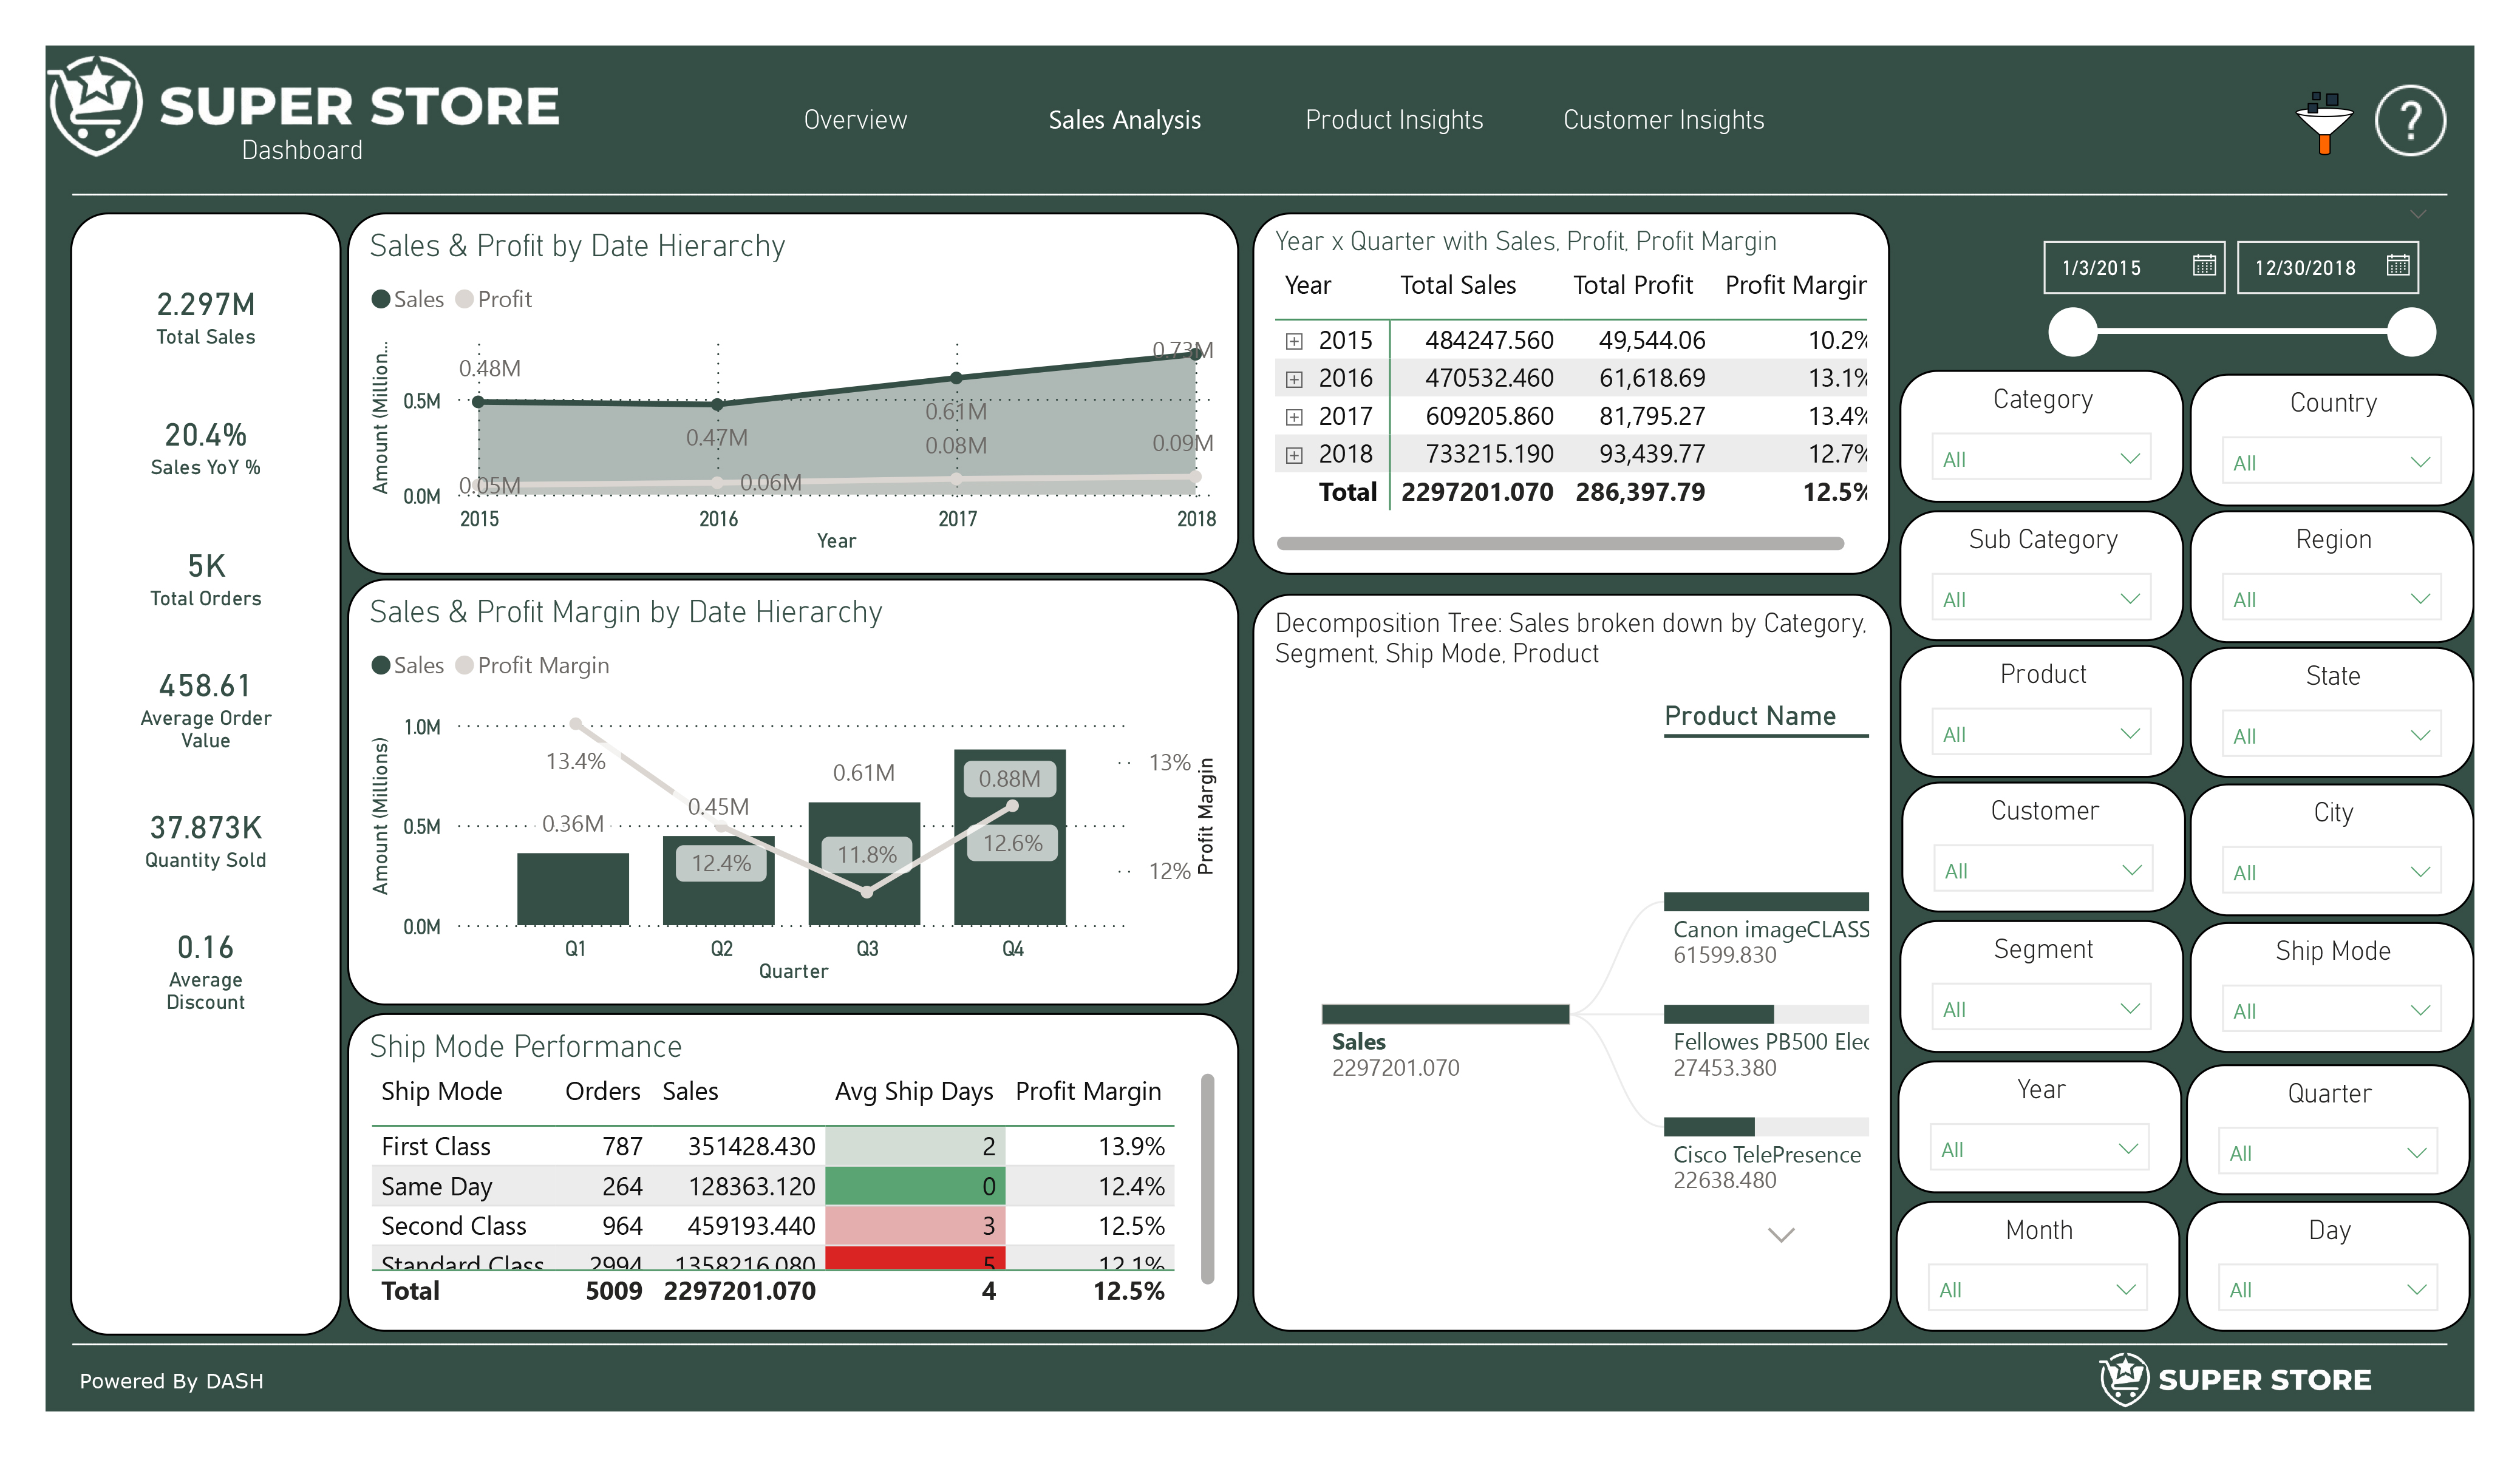

What the dashboard file says about the page in this screenshot:
{"tool":"powerbi","page":{"name":"Sales Analysis","canvas":[1280,720],"ordinal":1},"visuals":[{"type":"pageNavigator","box":[361.1,0,559.2,78.5],"z":0},{"type":"textbox","box":[2.1,41.4,266.8,27.9],"z":1000},{"type":"image","box":[1226,9.1,41.2,61.4],"z":2000},{"type":"image","box":[0,0,270.9,64.1],"z":3000},{"type":"textbox","box":[0,670,1280,27.8],"z":4000},{"type":"image","box":[1040,688.8,227.5,28.8],"z":5000},{"type":"slicer","fields":{"Values":["Order.order_date"]},"box":[1040.1,78.6,227.5,97.2],"z":6000},{"type":"textbox","box":[0,64.4,1280,27.8],"z":7000},{"type":"textbox","box":[13.1,688.8,133.8,31.2],"z":8000},{"type":"image","box":[1183.8,22.1,34.2,37.2],"z":9000},{"type":"cardVisual","fields":{"Data":["Calculations Measure.Total Sales","Calculations Measure.Sales YoY %","Calculations Measure.Total Orders","Calculations Measure.Average Order Value","Calculations Measure.Total Quantity","Calculations Measure.Average Discount"]},"box":[13.1,87.5,142.8,592.4],"z":10000},{"type":"slicer","title":"Country","fields":{"Values":["Country.country"]},"box":[1129.8,172.5,150,70],"z":11000},{"type":"slicer","title":"State","fields":{"Values":["State.state"]},"box":[1130.1,316.7,149.9,69.4],"z":12000},{"type":"slicer","title":"Region","fields":{"Values":["Region.region"]},"box":[1130.1,245.3,149.9,69.4],"z":13000},{"type":"slicer","title":"Sub Category","fields":{"Values":["Sub Category.sub_category"]},"box":[977.5,244.9,149.9,69.4],"z":14000},{"type":"slicer","title":"Product","fields":{"Values":["Product.product_name"]},"box":[977.5,316.3,149.9,69.4],"z":15000},{"type":"slicer","title":"Category","fields":{"Values":["Category.category"]},"box":[977.5,171.5,149.9,69.4],"z":16000},{"type":"slicer","title":"City","fields":{"Values":["City.city"]},"box":[1130.1,389.1,149.9,69.4],"z":17000},{"type":"slicer","title":"Ship Mode","fields":{"Values":["Ship Mode.ship_mode"]},"box":[1130.1,461.5,149.9,69.4],"z":18000},{"type":"slicer","title":"Customer","fields":{"Values":["Customer.customer_name"]},"box":[978.5,387.7,149.9,69.4],"z":19000},{"type":"slicer","title":"Segment","fields":{"Values":["Segment.segment"]},"box":[977.5,461.2,149.9,69.4],"z":20000},{"type":"slicer","title":"Quarter","fields":{"Values":["Calendar.Quarter"]},"box":[1128,536.6,149.9,69.4],"z":21000},{"type":"slicer","title":"Day","fields":{"Values":["Calendar.Day Name"]},"box":[1128,609,149.9,69.4],"z":22000},{"type":"slicer","title":"Year","fields":{"Values":["Calendar.Year"]},"box":[976.4,535.2,149.9,69.4],"z":23000},{"type":"slicer","title":"Month","fields":{"Values":["Calendar.Month Name"]},"box":[975.4,608.6,149.9,69.4],"z":24000},{"type":"lineChart","title":"Sales & Profit by Date Hierarchy ","fields":{"Y":["Sum(Order Details.sales)","Sum(Order Details.profit)"],"Category":["Calendar.Date Hierarchy.Year","Calendar.Date Hierarchy.Quarter","Calendar.Date Hierarchy.Month Name","Calendar.Date Hierarchy.Day Name"]},"box":[159.2,87.9,469.4,191.3],"z":25000},{"type":"lineClusteredColumnComboChart","title":"Sales & Profit Margin by Date Hierarchy ","fields":{"Category":["Calendar.Date Hierarchy.Year","Calendar.Date Hierarchy.Quarter","Calendar.Date Hierarchy.Month Name","Calendar.Date Hierarchy.Day Name"],"Y":["Sum(Order Details.sales)"],"Y2":["Calculations Measure.Profit Margin"]},"box":[158.8,281,470,225],"z":26000},{"type":"pivotTable","title":"Year x Quarter with Sales, Profit, Profit Margin","fields":{"Rows":["Calendar.Date Hierarchy.Year","Calendar.Date Hierarchy.Quarter"],"Values":["Calculations Measure.Total Sales","Calculations Measure.Total Profit","Calculations Measure.Profit Margin"]},"box":[635.9,87.9,336,191.3],"z":27000},{"type":"tableEx","title":"Ship Mode Performance","fields":{"Values":["Ship Mode.ship_mode","Calculations Measure.Total Orders","Calculations Measure.Total Sales","Calculations Measure.Average Ship Days","Calculations Measure.Profit Margin"]},"box":[158.8,510,470,167.5],"z":28000},{"type":"decompositionTreeVisual","title":"Decomposition Tree: Sales broken down by Category, Segment, Ship Mode, Product","fields":{"Analyze":["Calculations Measure.Total Sales"],"ExplainBy":["Product.product_name","Segment.segment","Ship Mode.ship_mode","Category.category"]},"box":[636.2,288.8,336.2,388.8],"z":29000}]}

Visuals, with their boxes on the page's 1280x720 design canvas (x1, y1, x2, y2). These are canvas units, not pixel positions in the 2520x1457 screenshot, which may show the page scaled, cropped or inside an application window:
pageNavigator: <bbox>361, 0, 920, 78</bbox>
textbox: <bbox>2, 41, 269, 69</bbox>
image: <bbox>1226, 9, 1267, 70</bbox>
image: <bbox>0, 0, 271, 64</bbox>
textbox: <bbox>0, 670, 1280, 698</bbox>
image: <bbox>1040, 689, 1268, 718</bbox>
slicer - Order.order_date: <bbox>1040, 79, 1268, 176</bbox>
textbox: <bbox>0, 64, 1280, 92</bbox>
textbox: <bbox>13, 689, 147, 720</bbox>
image: <bbox>1184, 22, 1218, 59</bbox>
cardVisual - Calculations Measure.Total Sales x Calculations Measure.Sales YoY %: <bbox>13, 88, 156, 680</bbox>
"Country" slicer: <bbox>1130, 172, 1280, 242</bbox>
"State" slicer: <bbox>1130, 317, 1280, 386</bbox>
"Region" slicer: <bbox>1130, 245, 1280, 315</bbox>
"Sub Category" slicer: <bbox>978, 245, 1127, 314</bbox>
"Product" slicer: <bbox>978, 316, 1127, 386</bbox>
"Category" slicer: <bbox>978, 172, 1127, 241</bbox>
"City" slicer: <bbox>1130, 389, 1280, 458</bbox>
"Ship Mode" slicer: <bbox>1130, 462, 1280, 531</bbox>
"Customer" slicer: <bbox>978, 388, 1128, 457</bbox>
"Segment" slicer: <bbox>978, 461, 1127, 531</bbox>
"Quarter" slicer: <bbox>1128, 537, 1278, 606</bbox>
"Day" slicer: <bbox>1128, 609, 1278, 678</bbox>
"Year" slicer: <bbox>976, 535, 1126, 605</bbox>
"Month" slicer: <bbox>975, 609, 1125, 678</bbox>
"Sales & Profit by Date Hierarchy " lineChart: <bbox>159, 88, 629, 279</bbox>
"Sales & Profit Margin by Date Hierarchy " lineClusteredColumnComboChart: <bbox>159, 281, 629, 506</bbox>
"Year x Quarter with Sales, Profit, Profit Margin" pivotTable: <bbox>636, 88, 972, 279</bbox>
"Ship Mode Performance" tableEx: <bbox>159, 510, 629, 678</bbox>
"Decomposition Tree: Sales broken down by Category, Segment, Ship Mode, Product" decompositionTreeVisual: <bbox>636, 289, 972, 678</bbox>
